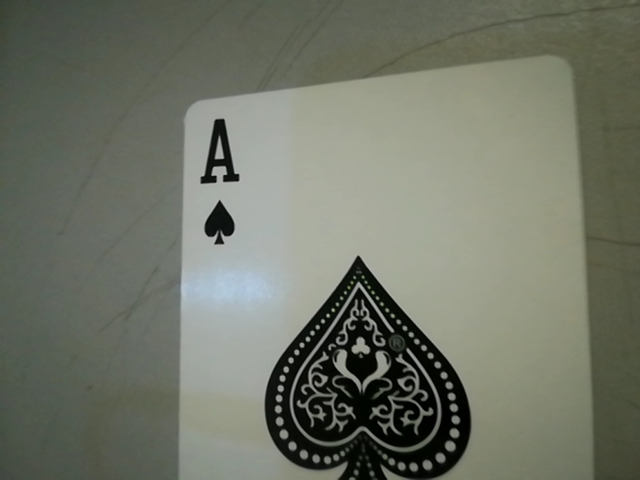ht a: (183, 111, 257, 254)
